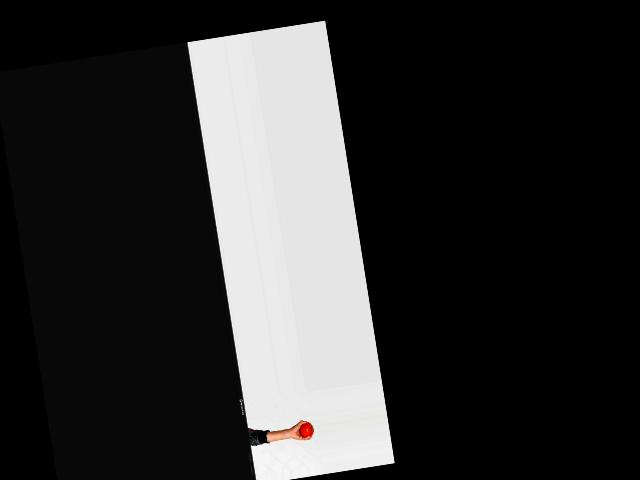tomato: (298, 421, 314, 438)
